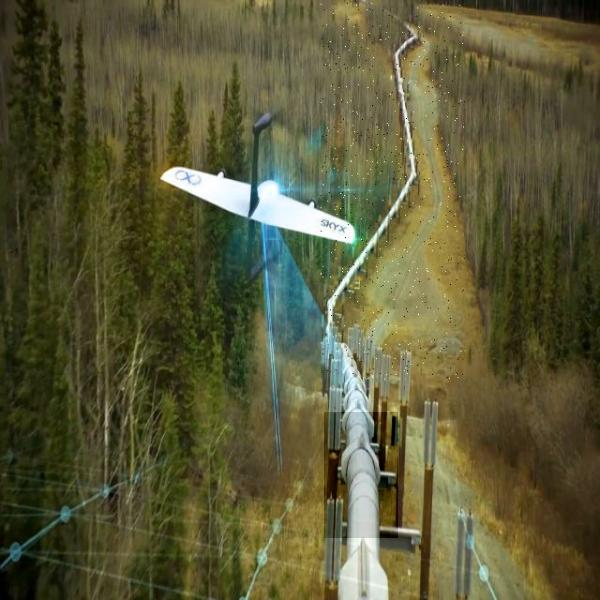no leak: (324, 412, 398, 538)
